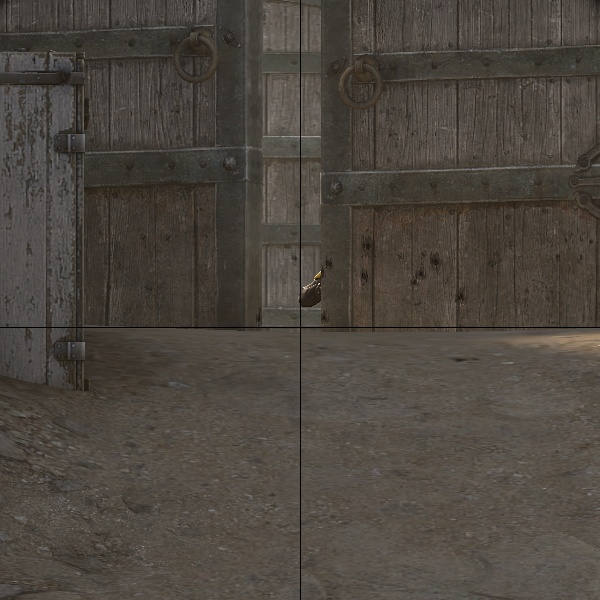t_body: (302, 268, 328, 321)
